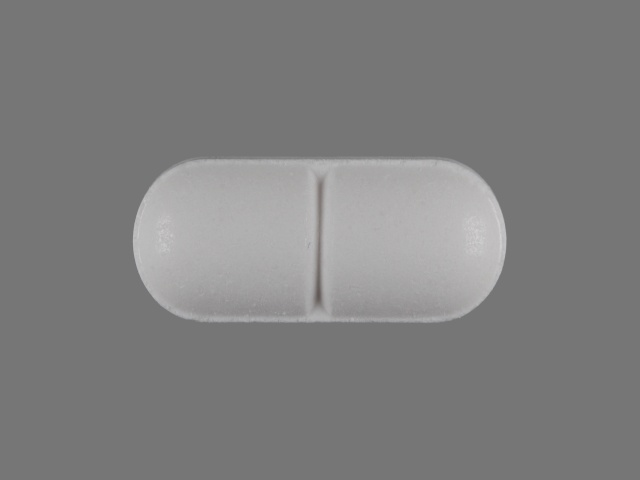|: (295, 161, 344, 323)
